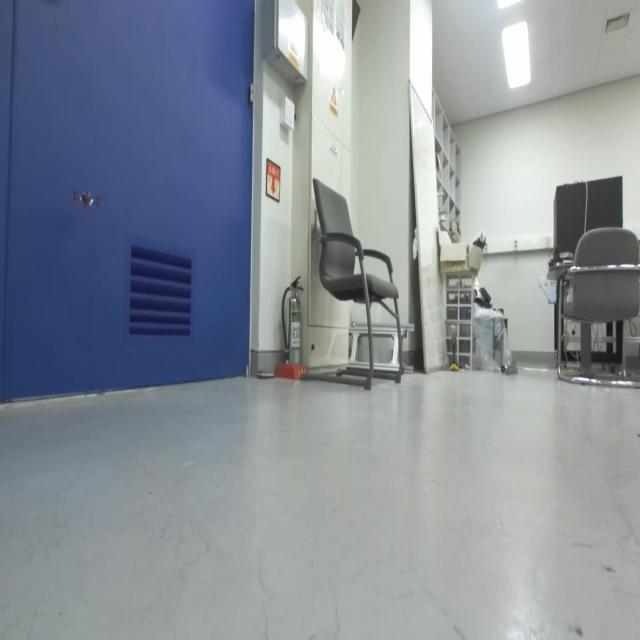crazyflie: (69, 182, 106, 220)
